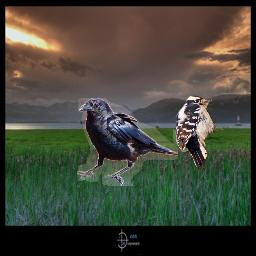Crow: (77, 98, 178, 186)
Woodpecker: (173, 94, 225, 171)
